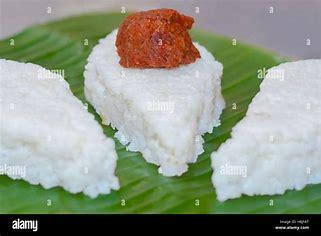Kiribath: (3, 5, 317, 208)
Lunu sambol: (116, 13, 216, 78)
